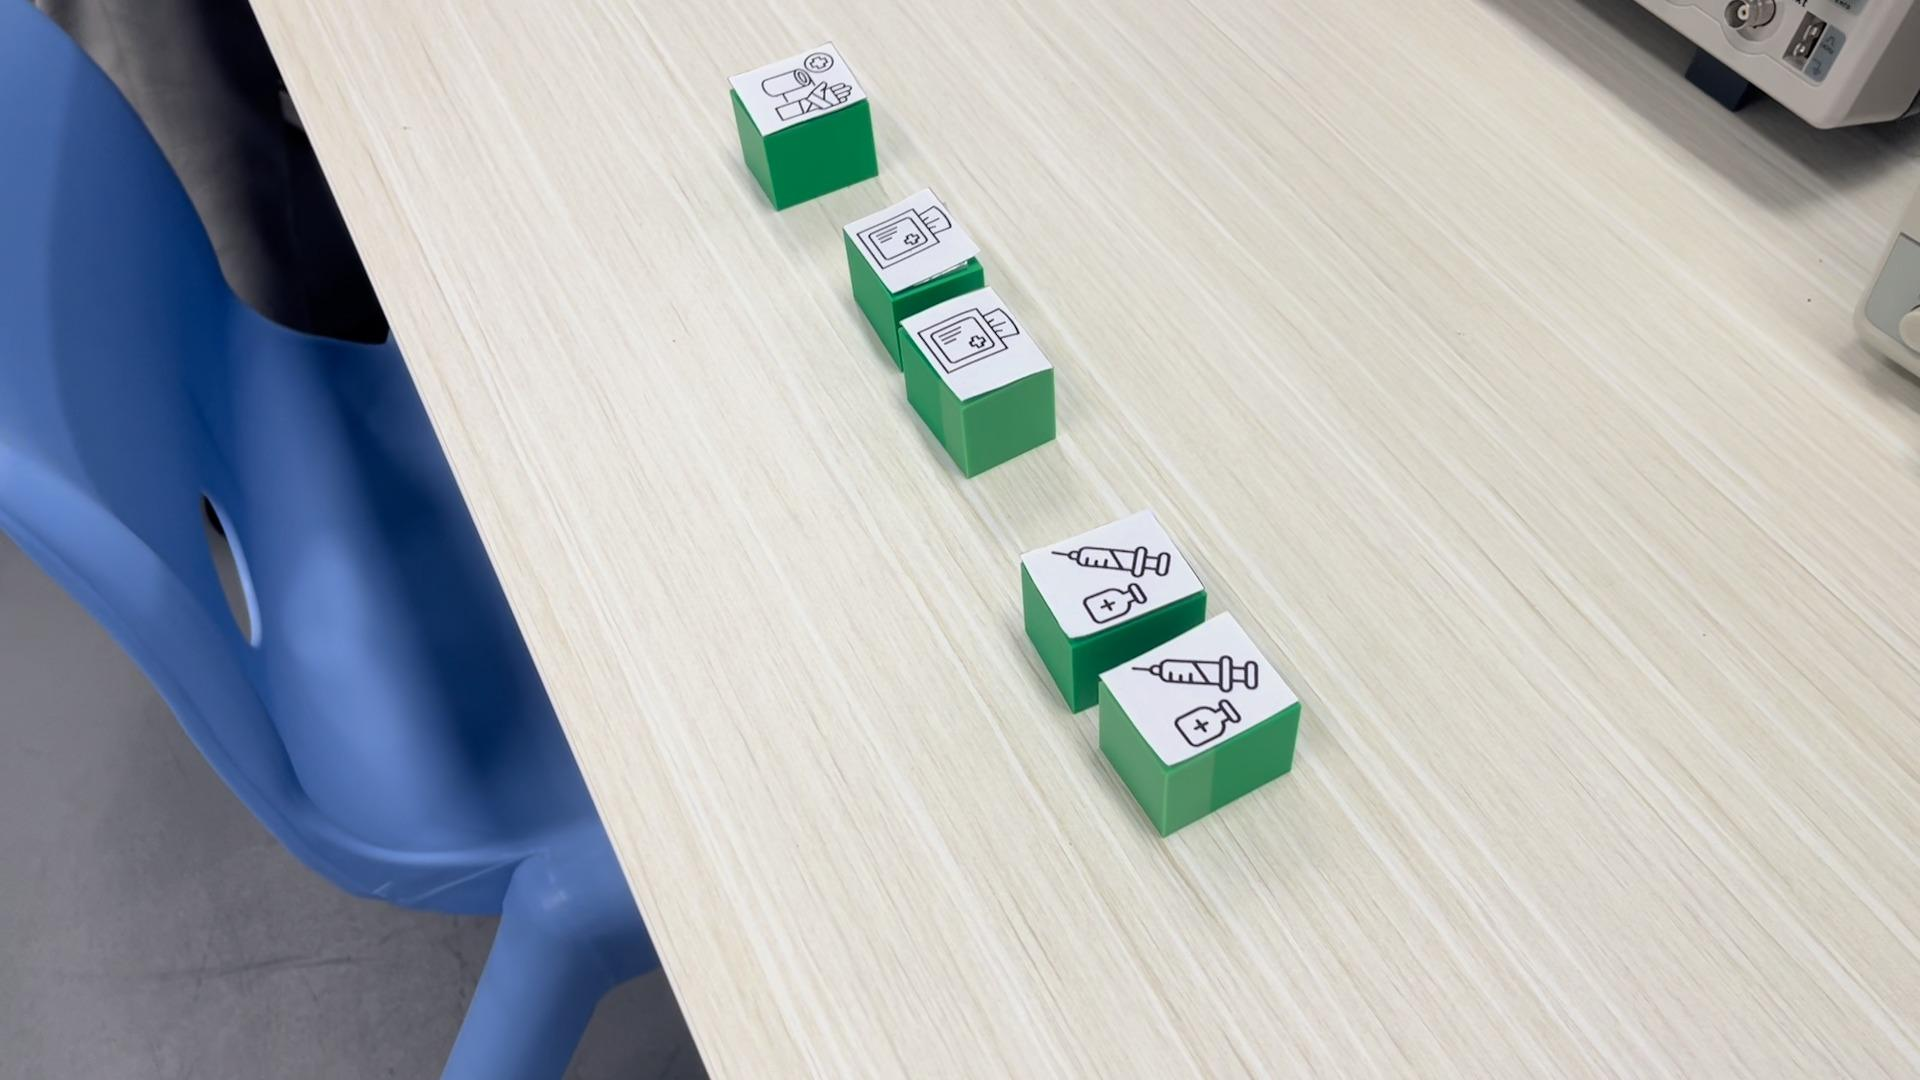Bandages: (723, 42, 879, 210)
Gauze: (897, 285, 1058, 479), (842, 185, 984, 304)
antiseptic cream: (1100, 610, 1301, 833), (1016, 506, 1207, 708)
